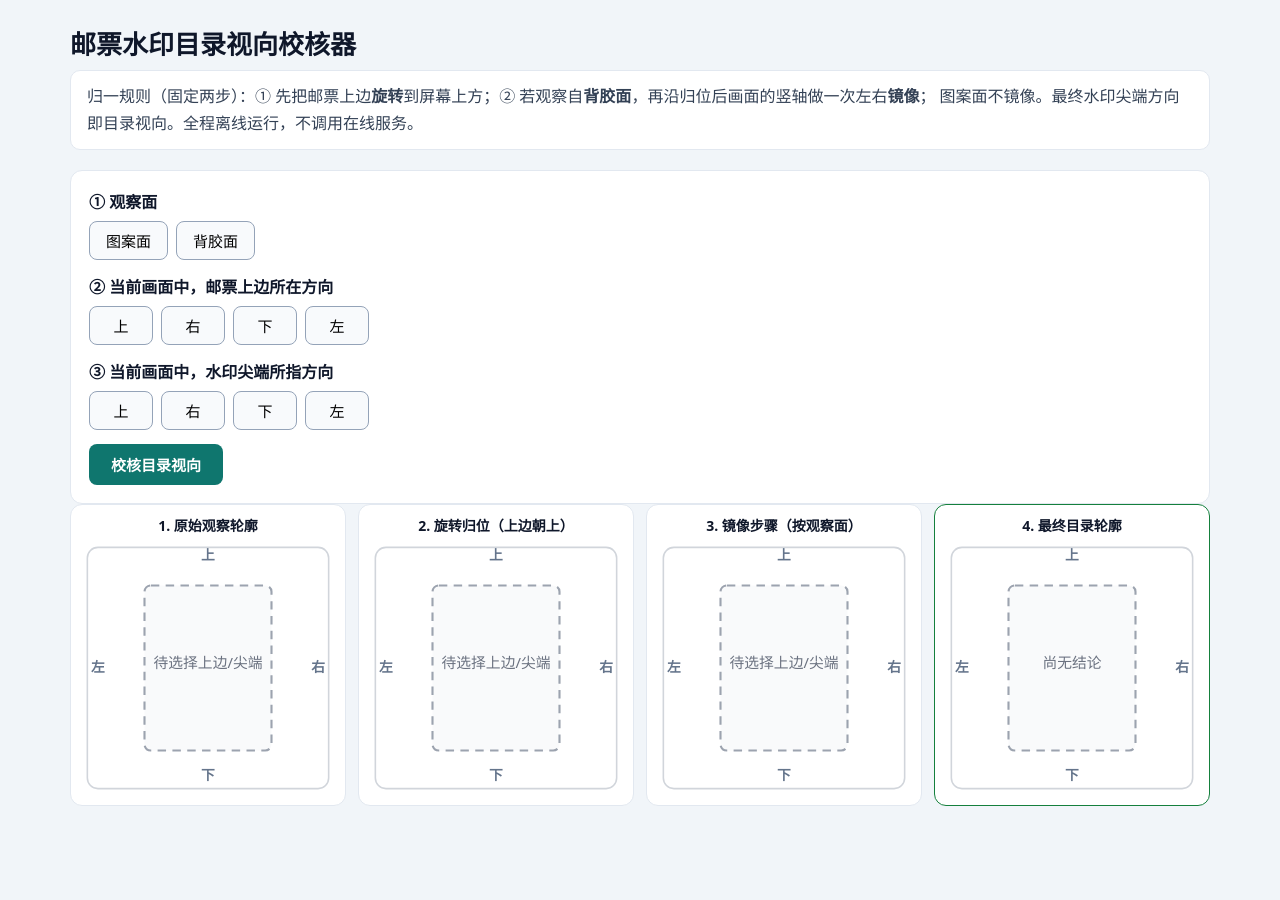
Scenario: 校核器交互 › 背胶面、上边朝上、尖端朝右 → 目录视向为左
This screenshot has width=1280, height=900.
Click the button with test id "face-control-gum".
click(216, 241)  # box [176, 221, 255, 260]
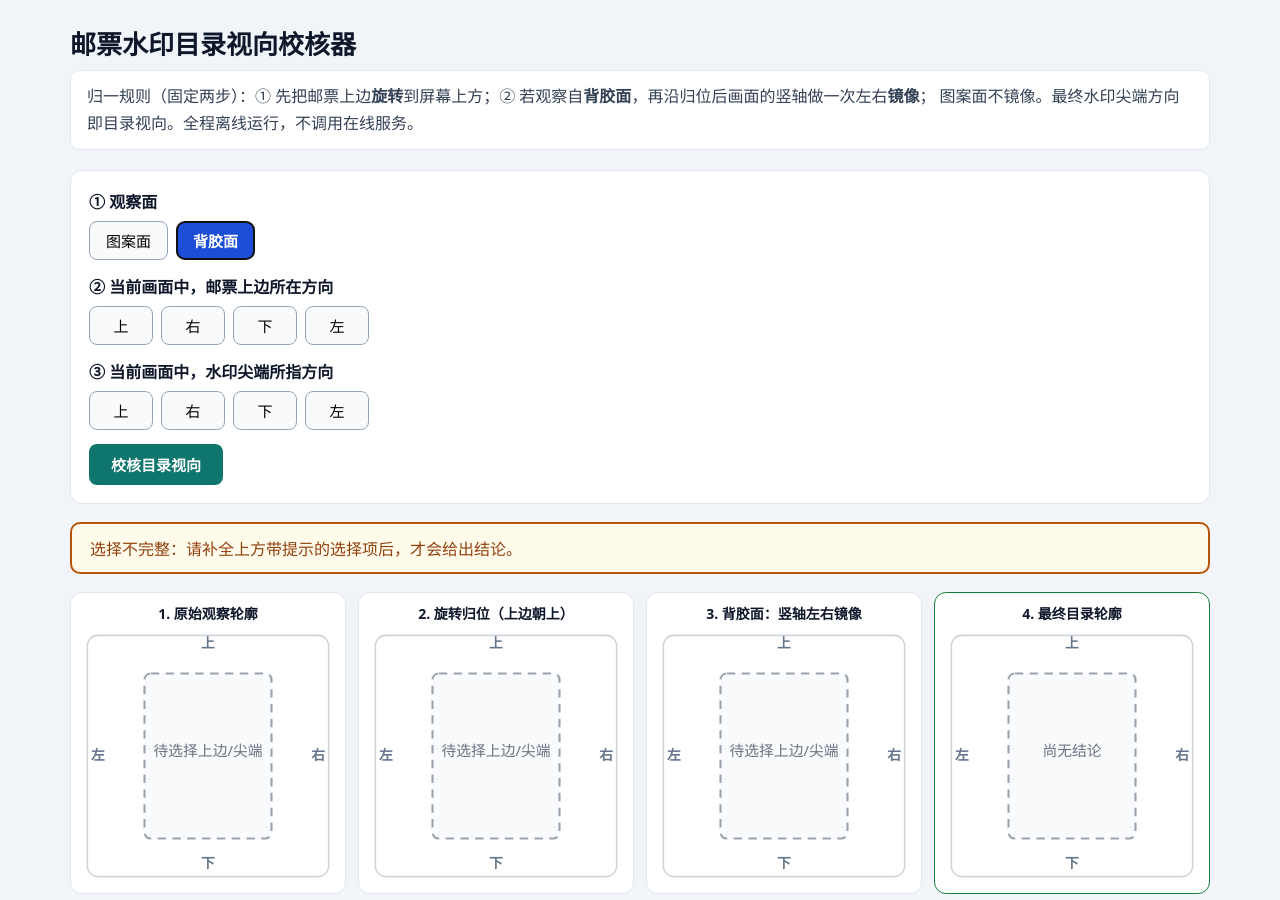
Click the button with test id "top-control-U".
click(121, 326)  # box [89, 306, 153, 345]
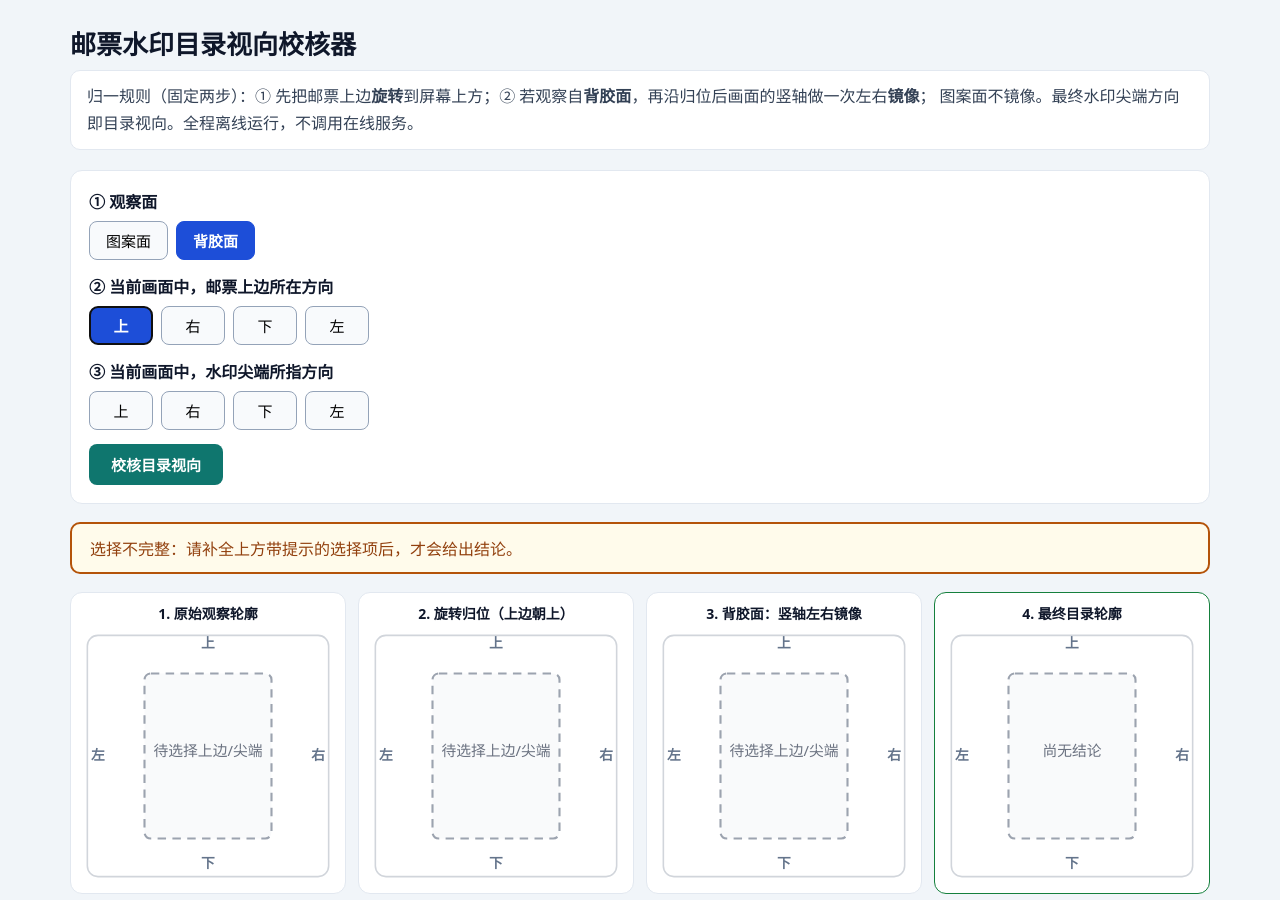
Click the button with test id "tip-control-R".
click(193, 411)  # box [161, 391, 225, 430]
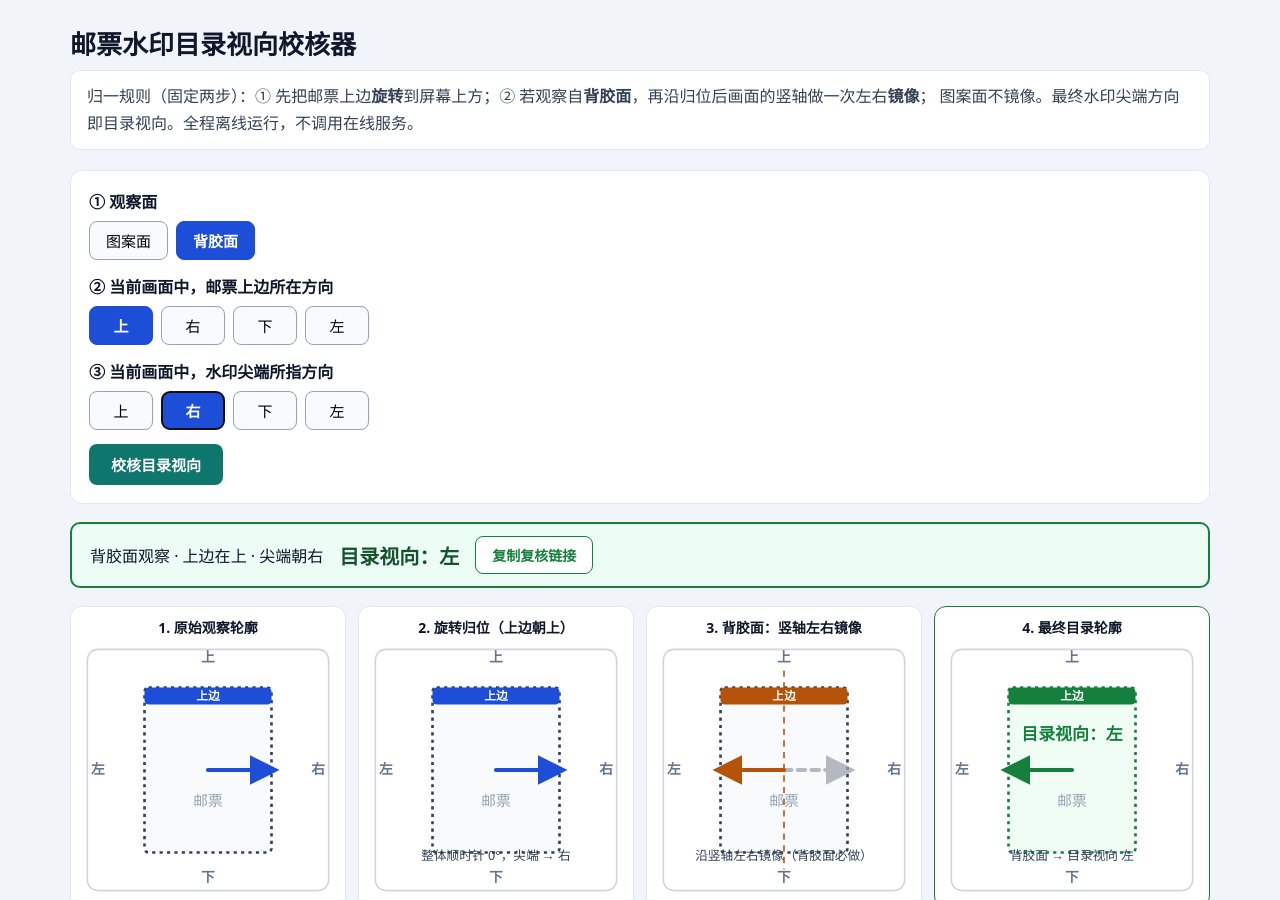
Expected: the picture with test id "figure-mirror" is shown, [657, 643, 911, 897]
Expected: the element with test id "result-banner" shows "目录视向：左", [70, 522, 1210, 588]
